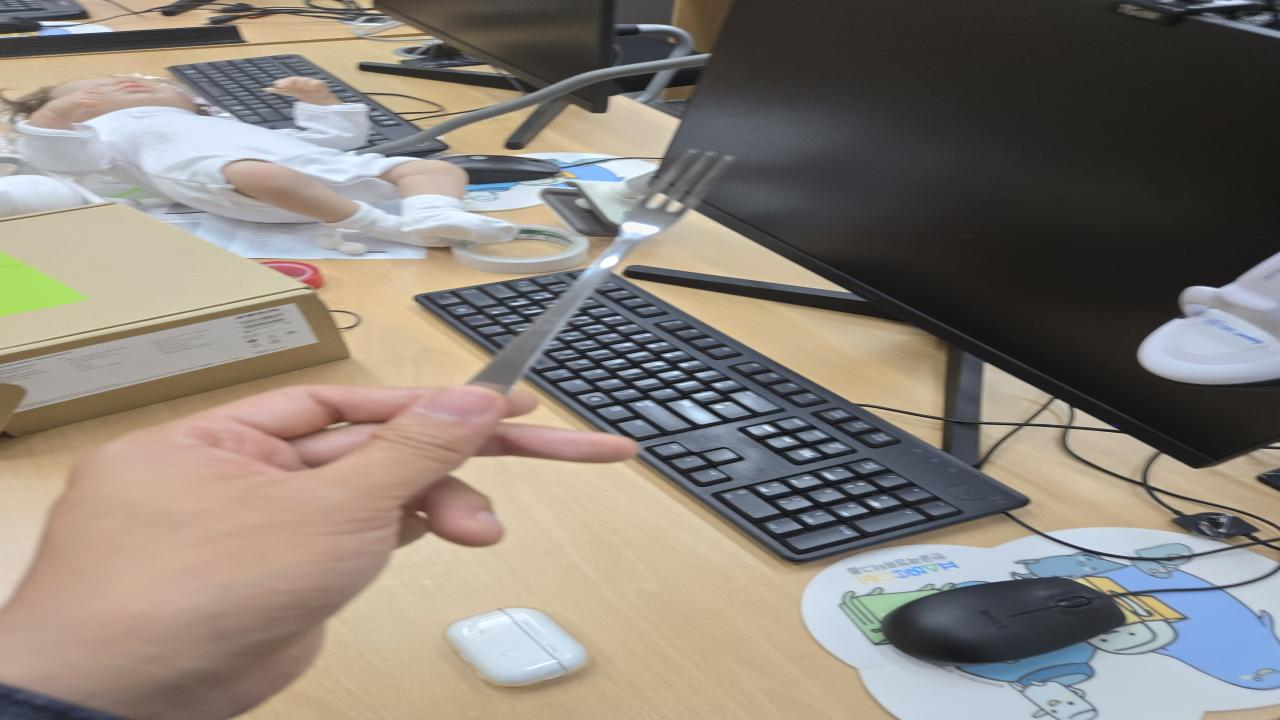fork: (468, 148, 734, 395)
hand: (262, 76, 336, 97), (45, 94, 104, 117)
